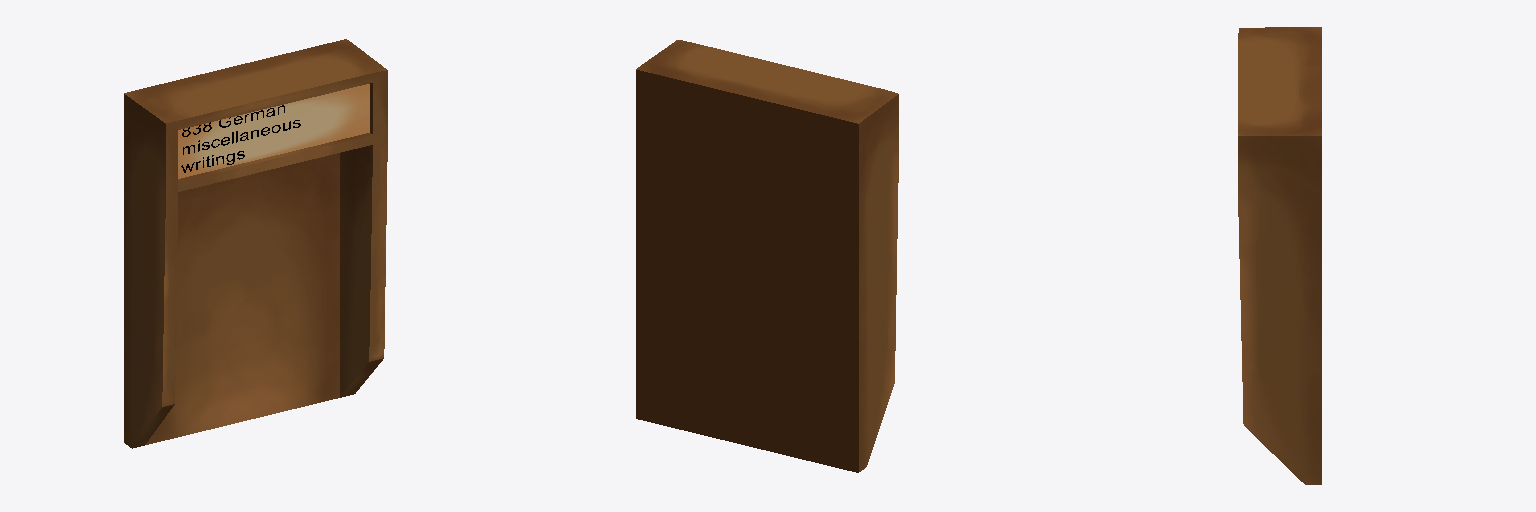
3 renders of one model, left to right at view 1: azimuth 30°, elevation 25°; view 2: azimuth 150°, elevation 25°; view 3: azimuth 270°, elevation 25°, orthographic.
Parts seen in each view (by area): view 1: holder, holder_label; view 2: holder; view 3: holder.
Boxes of the visible parts, x1,y1,x2,y2 form: holder: [124, 39, 387, 448]; holder_label: [178, 84, 369, 178]; holder: [636, 40, 898, 472]; holder: [1238, 27, 1321, 484].
Bounding box in the file's own units: 7.93 × 11.88 × 2.58.
Materials: 2 (2 with a texture image).